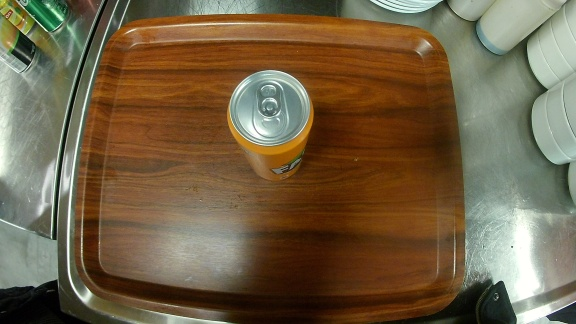kutufanta: (223, 67, 316, 185)
